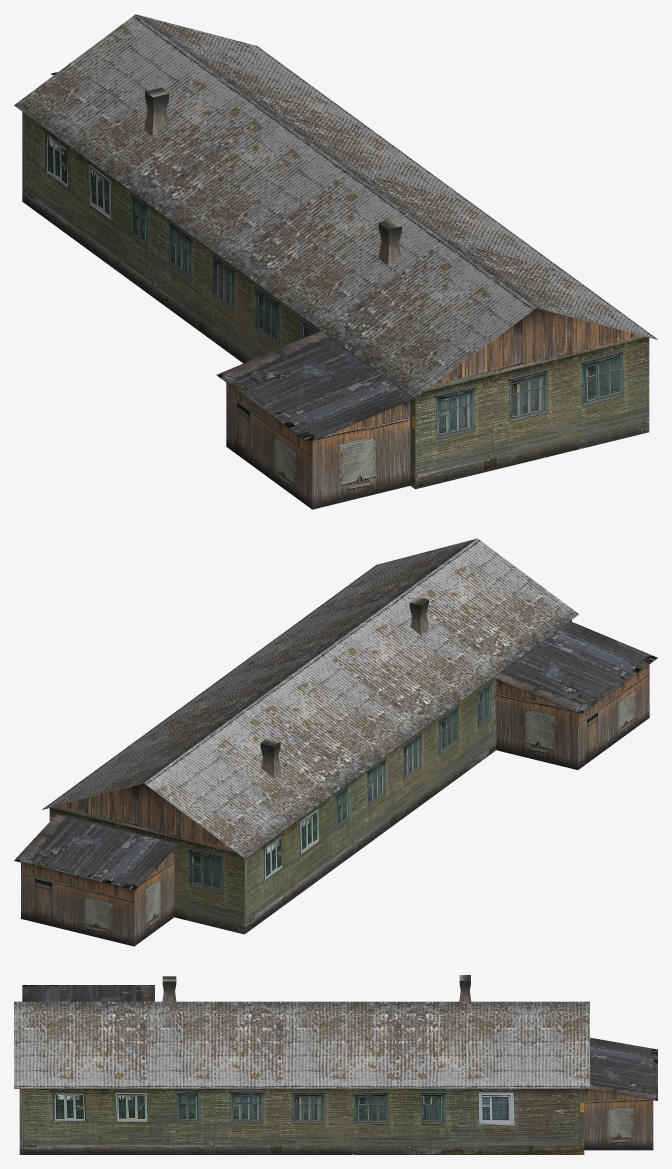
The model's file is r254_vhodnoy_barak.FBX.
The picture shows the model from 3 angles, top to bottom: view 1: azimuth 30°, elevation 25°; view 2: azimuth 150°, elevation 25°; view 3: azimuth 270°, elevation 25°; orthographic projection. The views are drawn at different scales.
Visible parts, largest first — view 1: r254_vhodnoy_barak; view 2: r254_vhodnoy_barak; view 3: r254_vhodnoy_barak.
Part boxes in pixels (bbox=[...]): r254_vhodnoy_barak: bbox=[14, 14, 657, 509]; r254_vhodnoy_barak: bbox=[14, 538, 657, 946]; r254_vhodnoy_barak: bbox=[14, 975, 657, 1154].
Size of the model in its own units: 1119 by 2528 by 528.
